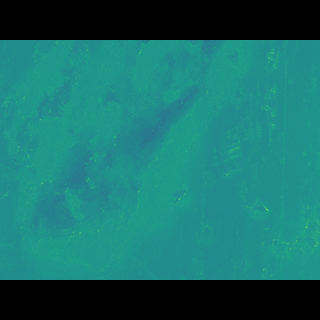Loch: (0, 69, 247, 246)
